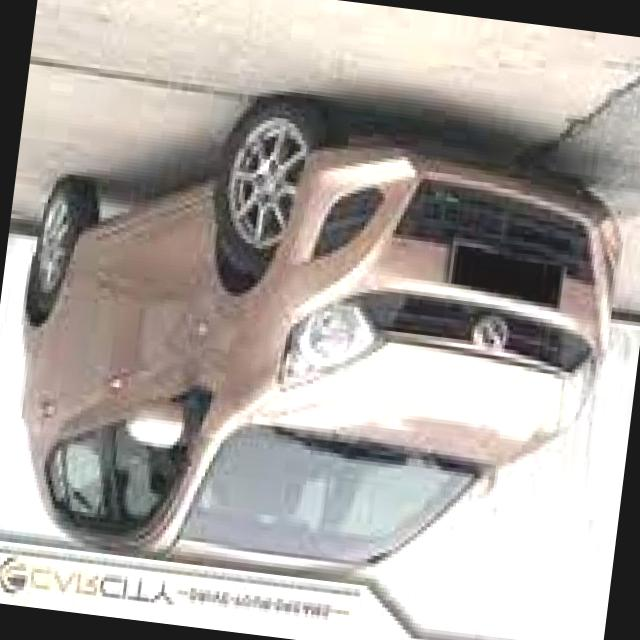PeroduaAxia: (0, 66, 635, 615)
